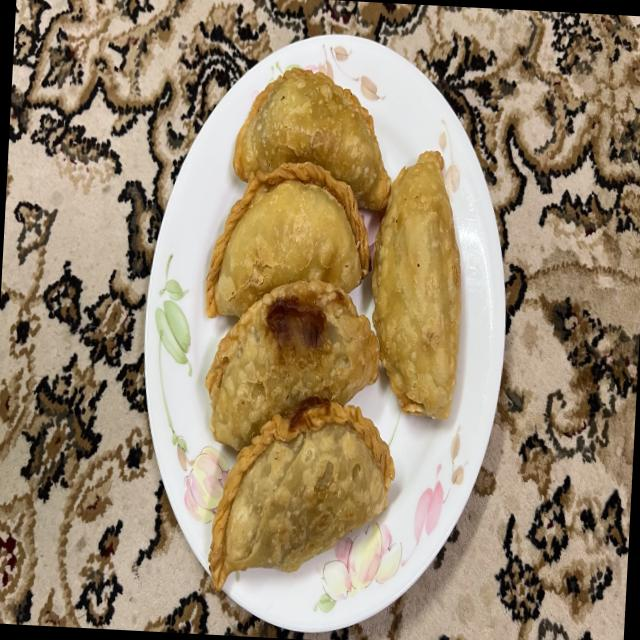karipap: (208, 399, 395, 589), (205, 280, 380, 451), (206, 161, 371, 318), (372, 150, 462, 420), (233, 67, 391, 212)
